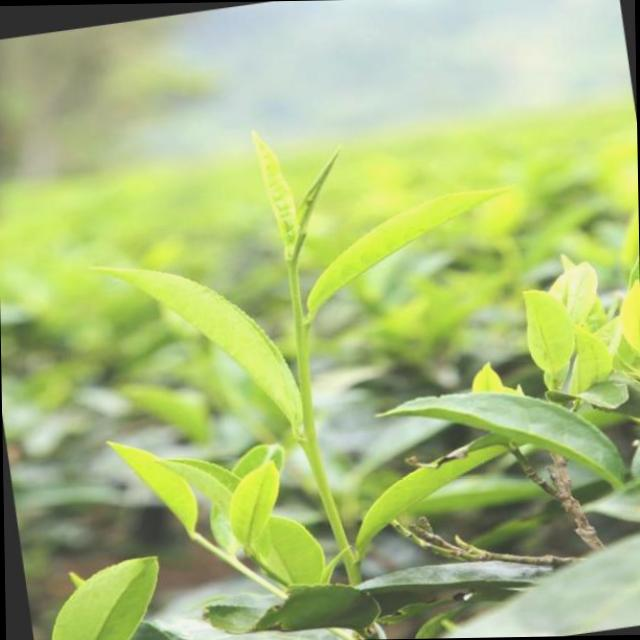Stem: (288, 258, 298, 274), (227, 556, 236, 561)
